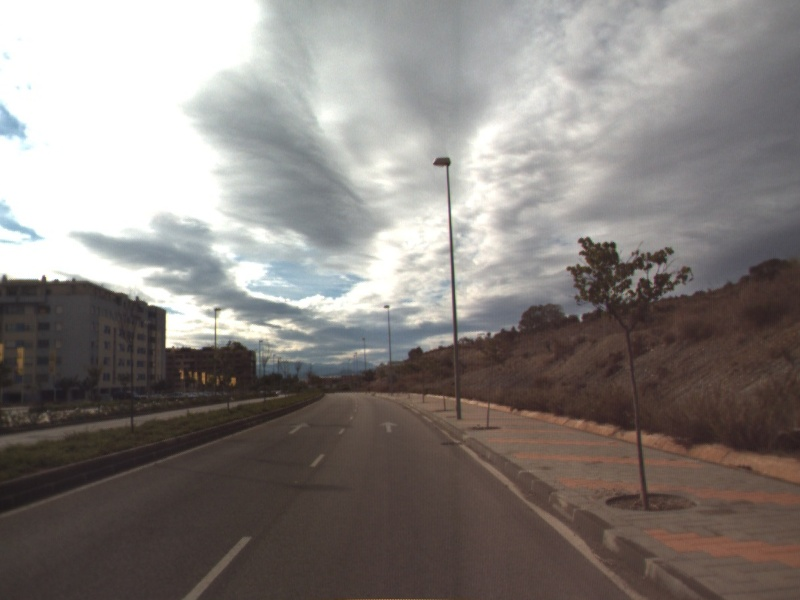STRAIGHT: (286, 420, 312, 436), (377, 419, 400, 434)
